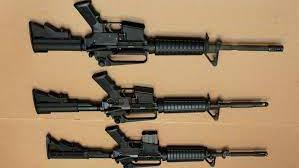larga: (29, 0, 284, 67), (32, 71, 269, 124), (46, 124, 268, 168)
